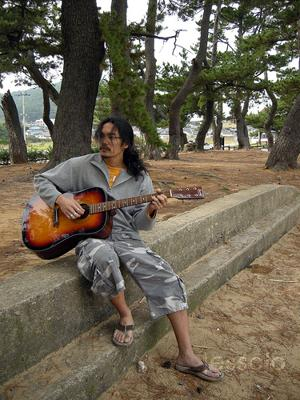person: (34, 117, 225, 382)
